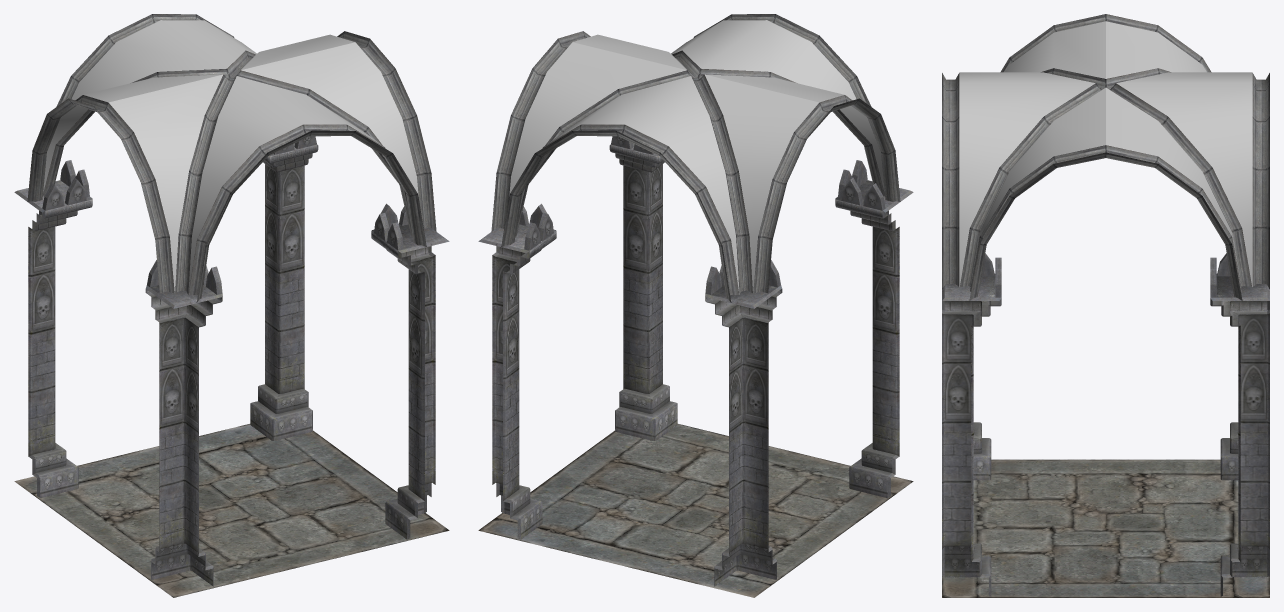
File: 4_waytunnel.FBX
3 renders of one model, left to right at view 1: azimuth 30°, elevation 25°; view 2: azimuth 150°, elevation 25°; view 3: azimuth 270°, elevation 25°, orthographic. The views are drawn at different scales.
Visible parts, largest first — view 1: 4_waytunnel; view 2: 4_waytunnel; view 3: 4_waytunnel.
Boxes of the visible parts, bbox=[...] form: 4_waytunnel: bbox=[14, 14, 449, 597]; 4_waytunnel: bbox=[478, 14, 913, 597]; 4_waytunnel: bbox=[942, 14, 1269, 597].
Bounding box in the file's own units: 500 × 750 × 500.
